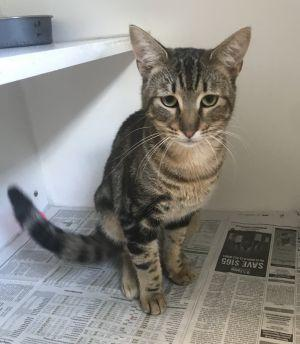bengal: (122, 20, 259, 150)
